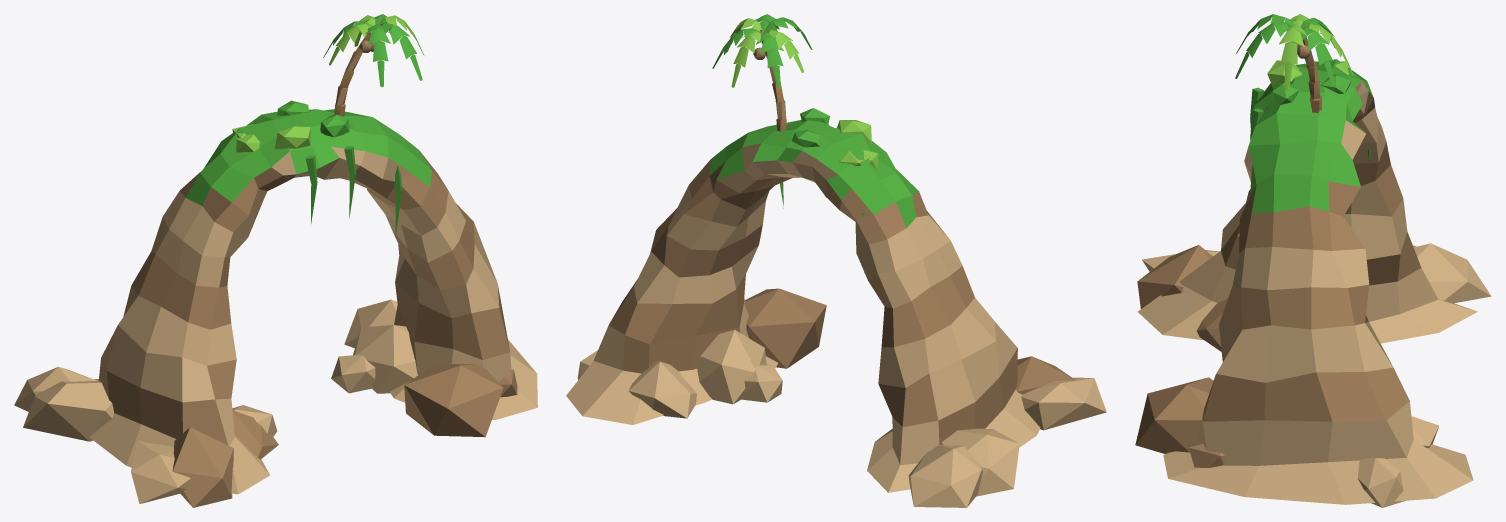
File: rock_arch.glb
The picture shows the model from 3 angles, left to right: view 1: azimuth 30°, elevation 25°; view 2: azimuth 150°, elevation 25°; view 3: azimuth 270°, elevation 25°; orthographic projection. The views are drawn at different scales.
Visible parts, largest first — view 1: rock_arch; view 2: rock_arch; view 3: rock_arch.
Boxes of the visible parts, left/top/right/bottom form: rock_arch: left=14, top=14, right=537, bottom=507; rock_arch: left=566, top=14, right=1106, bottom=507; rock_arch: left=1135, top=14, right=1491, bottom=507.
Size of the model in its own units: 11.43 by 9.06 by 7.06.
